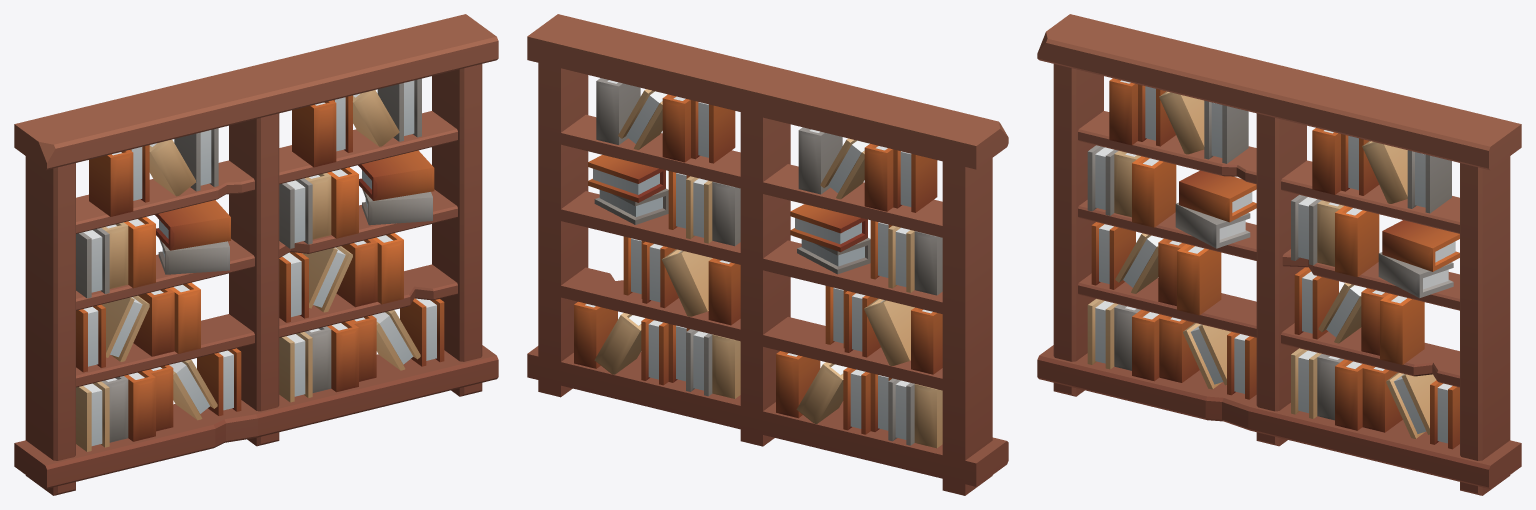
File: bookcase_double_decoratedA.glb
The picture shows the model from 3 angles, left to right: view 1: azimuth 30°, elevation 25°; view 2: azimuth 150°, elevation 25°; view 3: azimuth 330°, elevation 25°; orthographic projection.
Visible parts, largest first — view 1: bookcase_double_decoratedA; view 2: bookcase_double_decoratedA; view 3: bookcase_double_decoratedA.
Boxes of the visible parts, x1,y1,x2,y2 form: bookcase_double_decoratedA: (14, 14, 498, 495); bookcase_double_decoratedA: (527, 14, 1008, 495); bookcase_double_decoratedA: (1037, 14, 1521, 495).
Bounding box in the file's own units: 4 × 3 × 0.5494.
1 material, 1 textured.
